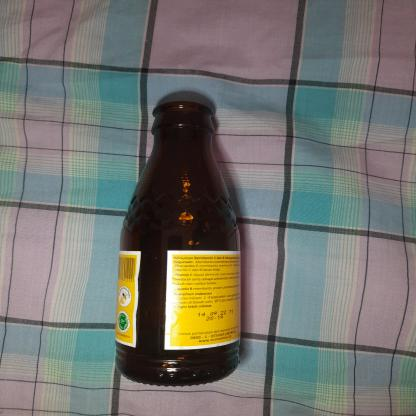keyboard: (107, 95, 251, 392)
